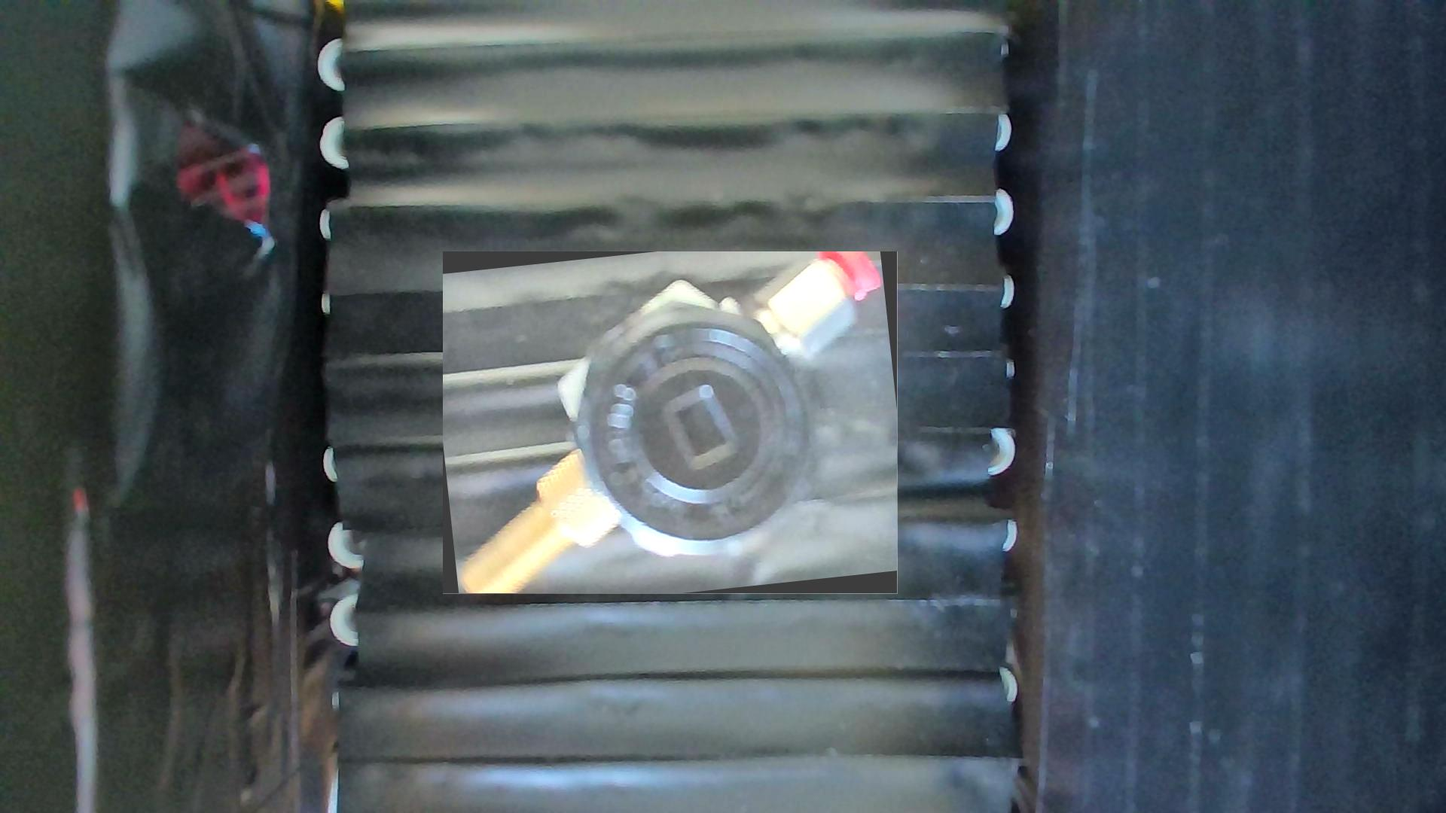regulator: (443, 252, 898, 595)
